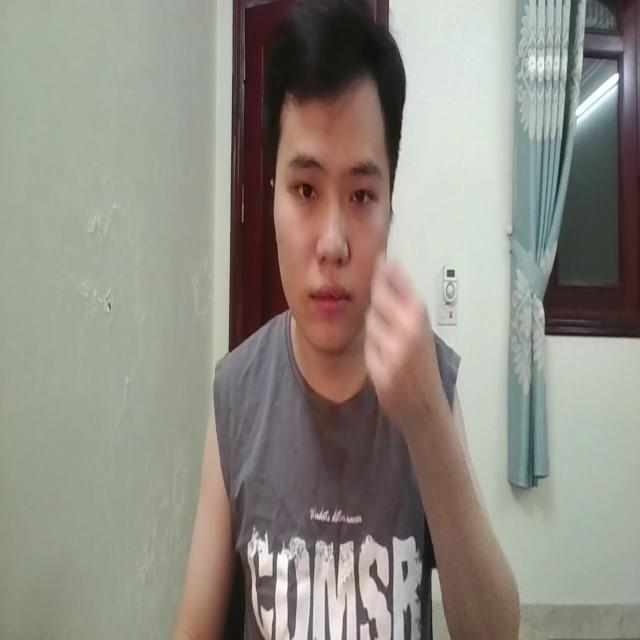student: (181, 2, 521, 640)
